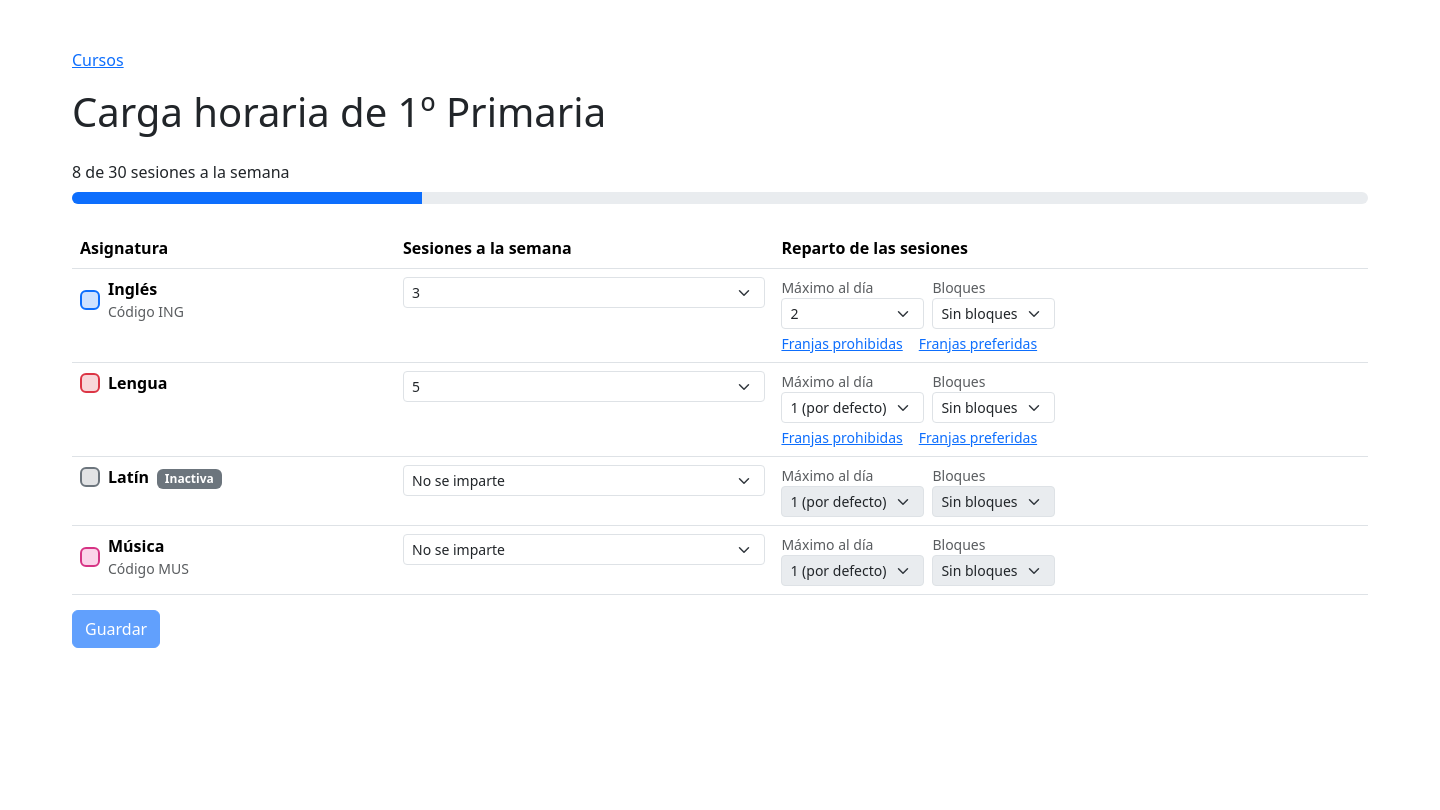
Test: CourseWorkloadPage › as an administrator › recalculates the balance while editing, before saving
The image size is (1440, 810).
Select "4" in the dropdown named "Sesiones a la semana de Inglés" at (584, 292), box [403,277,765,308]
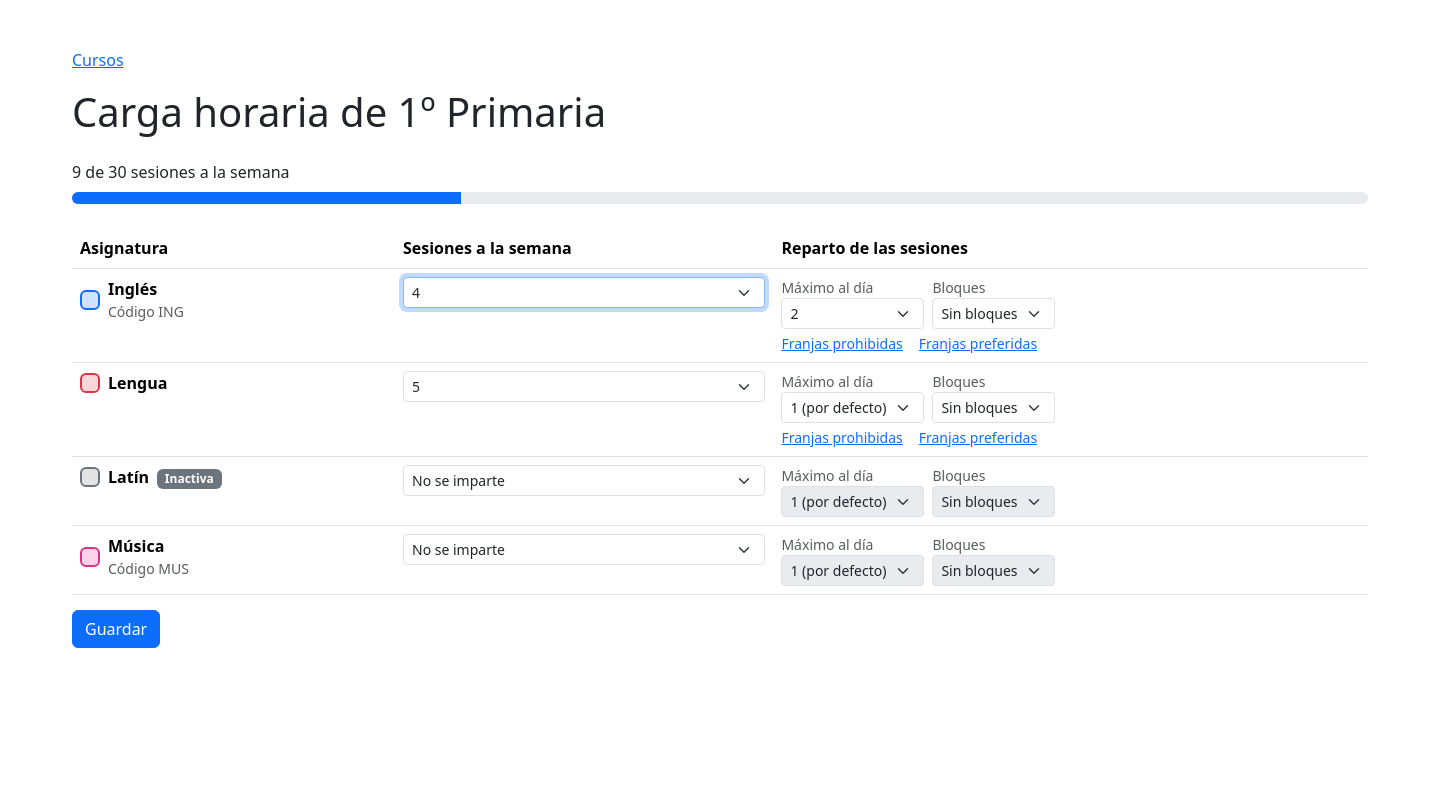
Select "2" in the dropdown named "Sesiones a la semana de Música" at (584, 550), box [403,534,765,565]
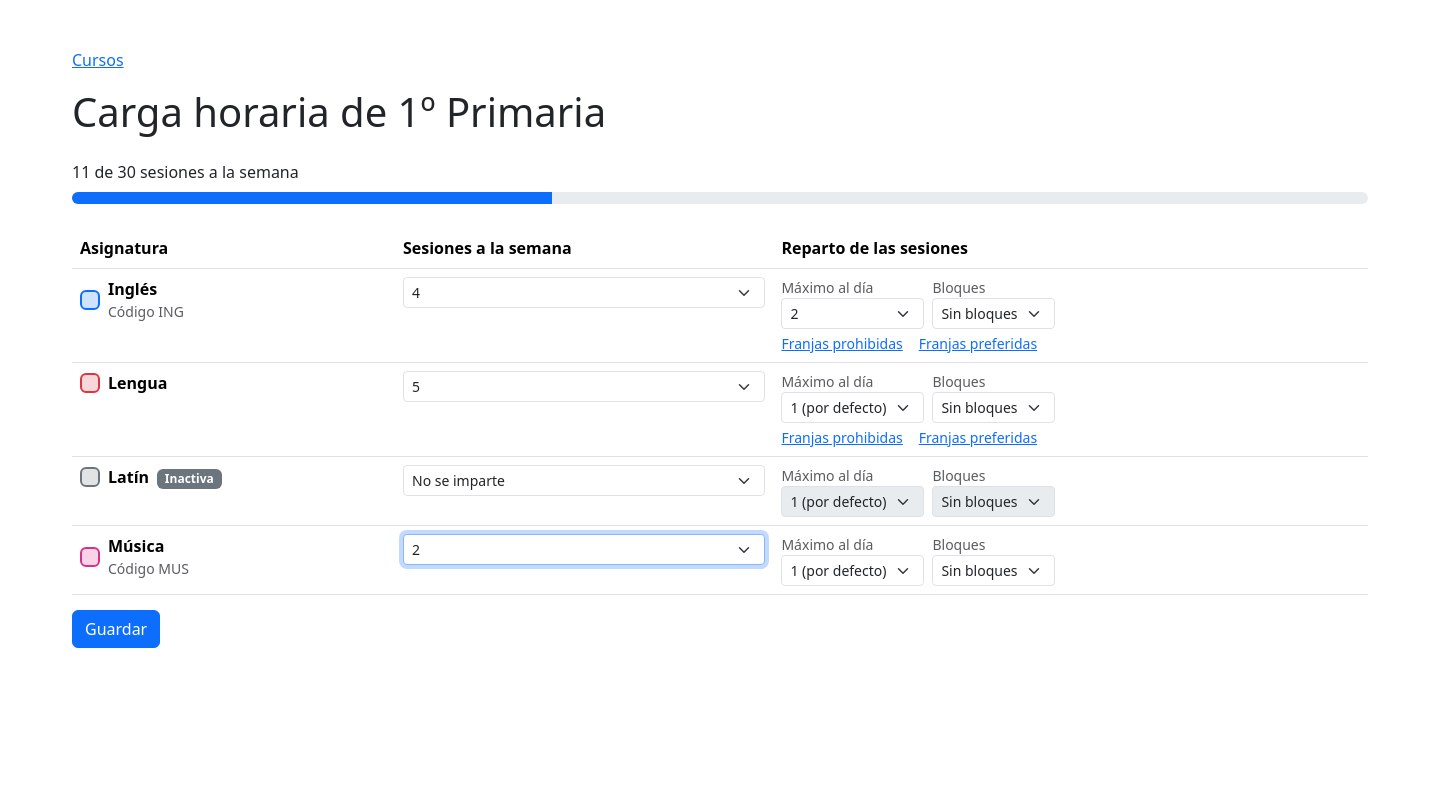
Select "No se imparte" in the dropdown named "Sesiones a la semana de Lengua" at (584, 386), box [403,371,765,402]
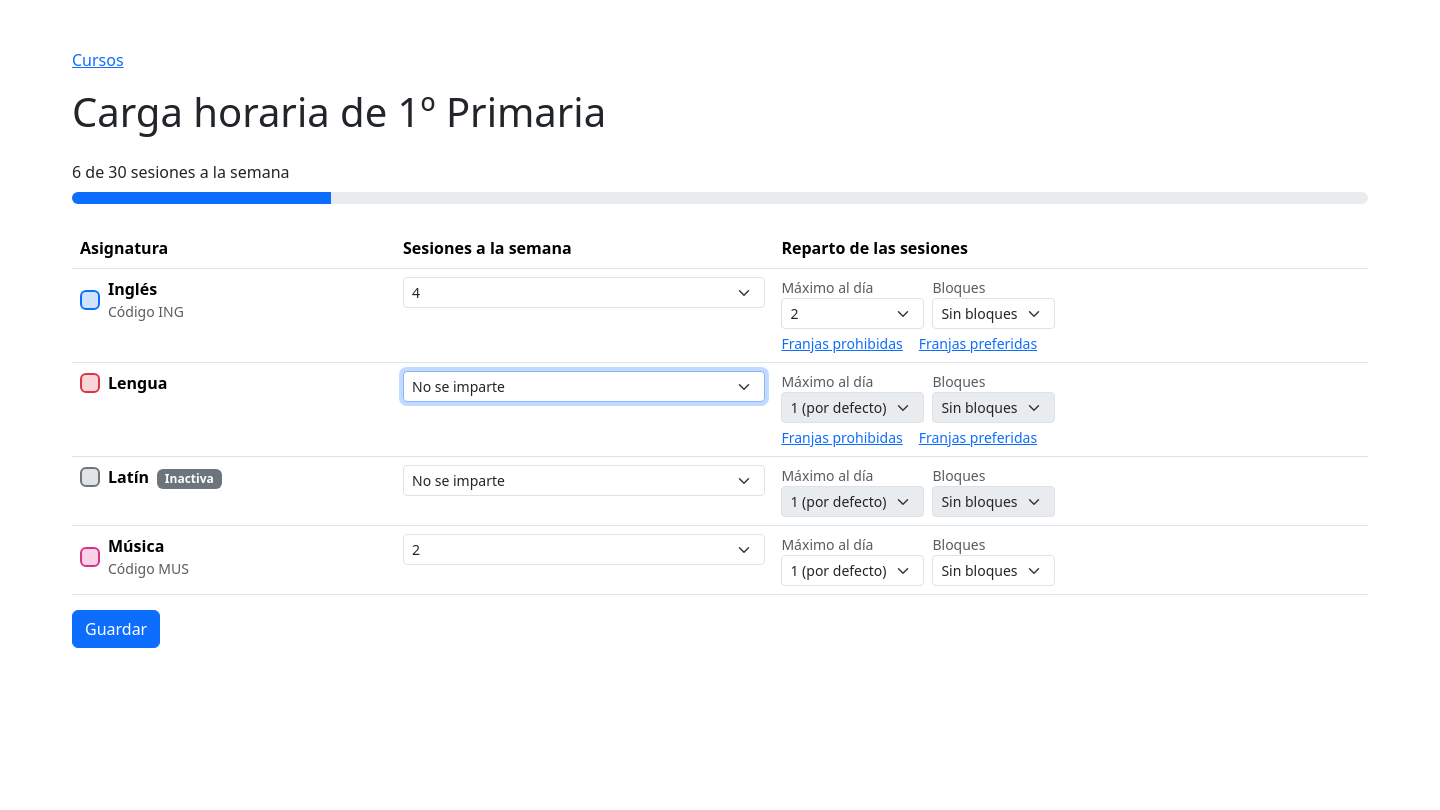
expect the text "6 de 30 sesiones a la semana" is shown: met, box [72,161,290,183]
